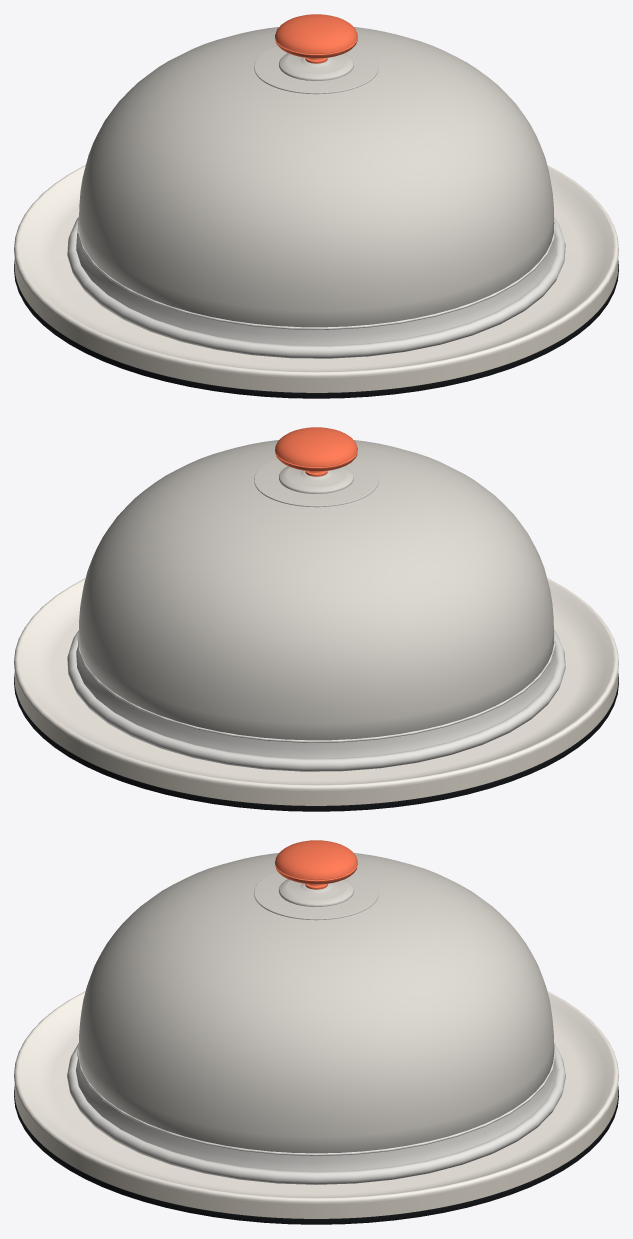
The model's file is dinner.glb.
The picture shows the model from 3 angles, top to bottom: view 1: azimuth 30°, elevation 25°; view 2: azimuth 150°, elevation 25°; view 3: azimuth 270°, elevation 25°; orthographic projection.
Parts seen in each view (by area): view 1: cover_mesh, plate_mesh, cover_bead, plate_signature, plate_foot, cover_handle; view 2: cover_mesh, plate_mesh, cover_bead, plate_signature, plate_foot, cover_handle; view 3: cover_mesh, plate_mesh, cover_bead, plate_signature, plate_foot, cover_handle.
Boxes of the visible parts, x1,y1,x2,y2 form: cover_mesh: (78, 27, 554, 327); plate_mesh: (14, 165, 618, 378); cover_bead: (67, 217, 565, 358); plate_signature: (14, 258, 618, 392); plate_foot: (14, 261, 618, 398); cover_handle: (275, 14, 357, 63); cover_mesh: (78, 440, 554, 740); plate_mesh: (14, 578, 618, 791); cover_bead: (67, 630, 565, 771); plate_signature: (14, 671, 618, 805); plate_foot: (14, 674, 618, 811); cover_handle: (275, 427, 357, 476); cover_mesh: (78, 853, 554, 1153); plate_mesh: (14, 991, 618, 1204); cover_bead: (67, 1043, 565, 1184); plate_signature: (14, 1085, 618, 1218); plate_foot: (14, 1087, 618, 1224); cover_handle: (275, 840, 357, 889).
Size of what is drawn, in the model's own units: 1.6 by 0.725 by 1.6.
